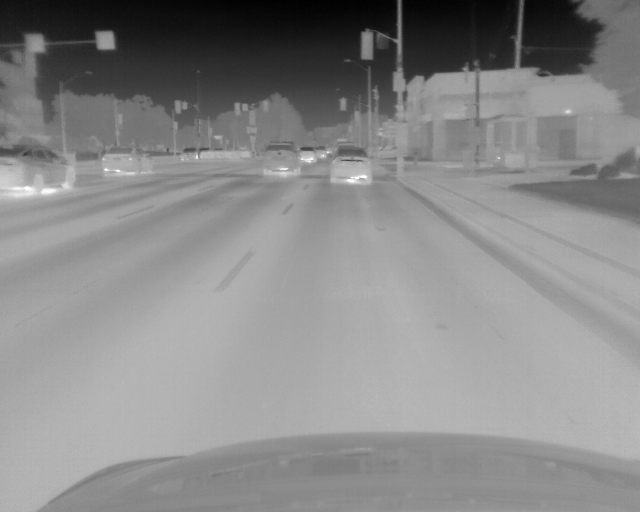car: (1, 142, 78, 195), (327, 147, 372, 189), (99, 144, 155, 175), (260, 139, 300, 179), (297, 146, 316, 164), (179, 147, 195, 160), (313, 145, 326, 161)
